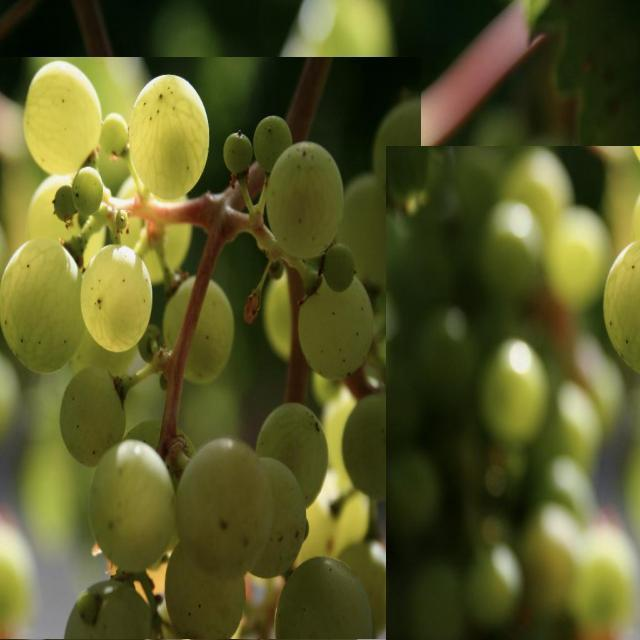Grape: (0, 58, 421, 640), (386, 146, 640, 640)
